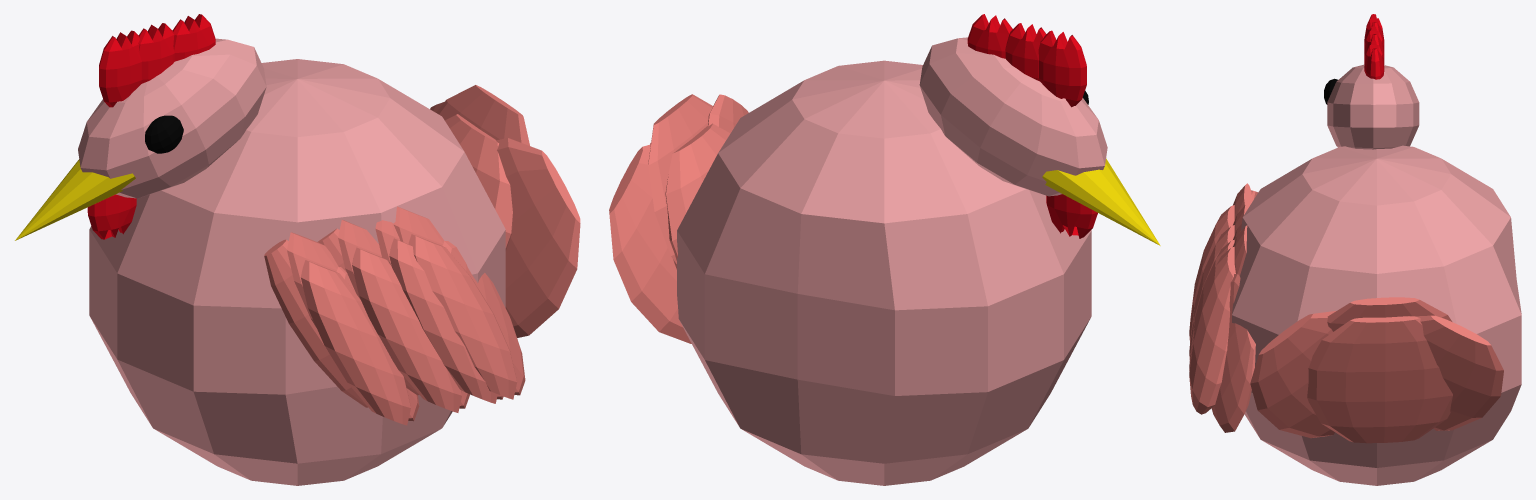
File: Chicken.fbx
The picture shows the model from 3 angles, left to right: view 1: azimuth 30°, elevation 25°; view 2: azimuth 150°, elevation 25°; view 3: azimuth 270°, elevation 25°; orthographic projection. The views are drawn at different scales.
Parts seen in each view (by area): view 1: Galinha_01; view 2: Galinha_01; view 3: Galinha_01.
Part boxes in pixels (left/top/right/bottom): Galinha_01: left=15, top=14, right=580, bottom=485; Galinha_01: left=609, top=14, right=1160, bottom=485; Galinha_01: left=1189, top=14, right=1521, bottom=485.
Size of the model in its own units: 269 by 246 by 194.
